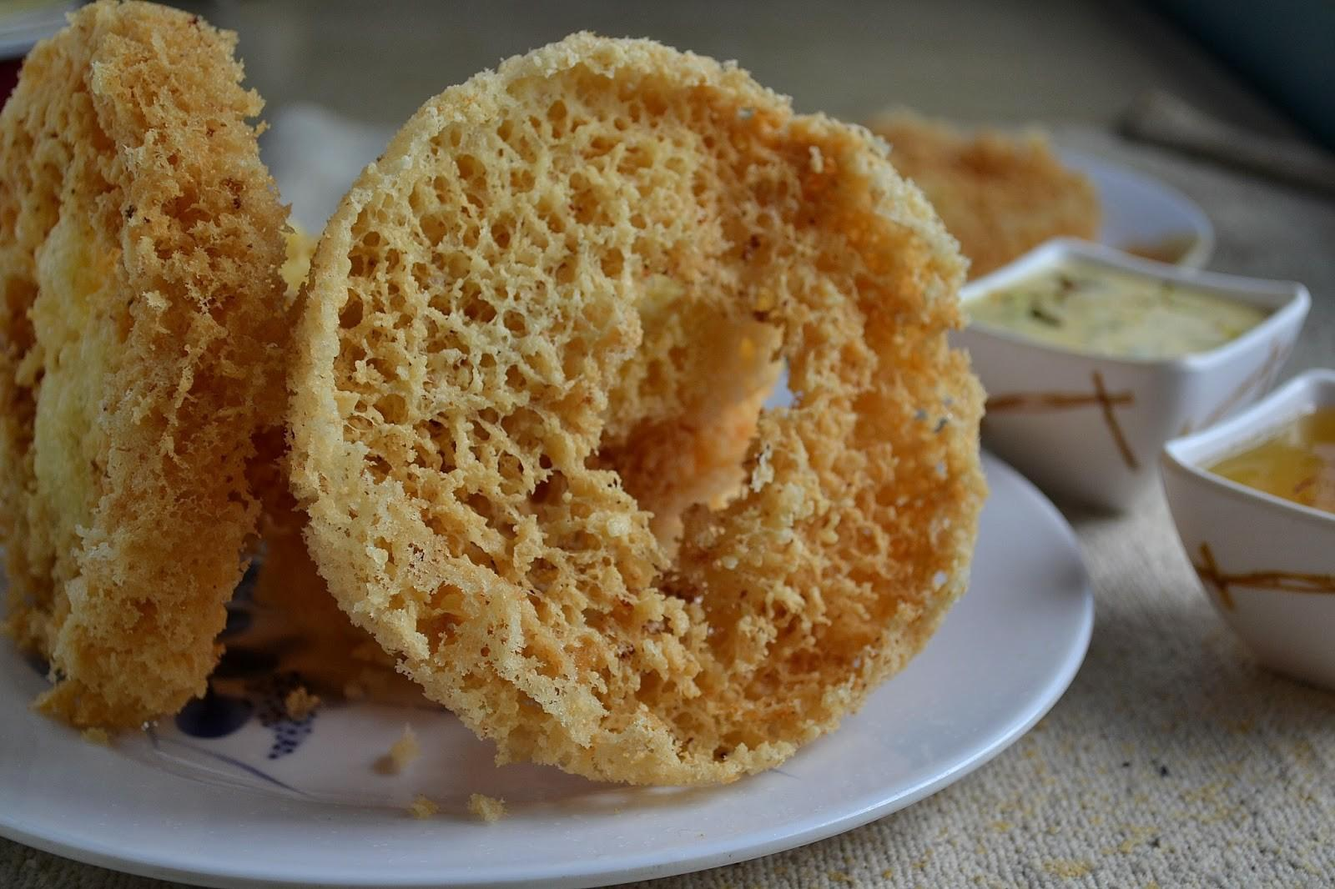Ghevar: (286, 28, 993, 785), (0, 0, 291, 738)
